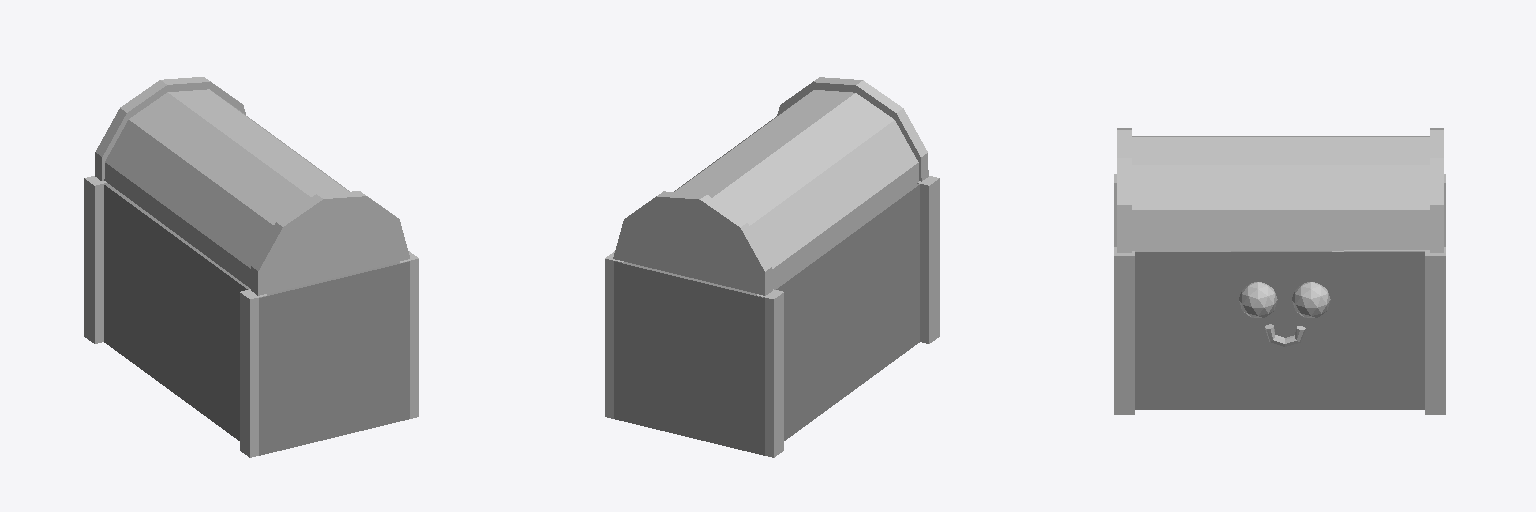
File: mimic.obj
3 views of the same model, side by side, from view 1: azimuth 30°, elevation 25°; view 2: azimuth 150°, elevation 25°; view 3: azimuth 270°, elevation 25° (orthographic).
Visible parts, largest first — view 1: Cube, Cylinder, Cylinder.003, Cube.003, Cube.004, Cylinder.002, Cube.001; view 2: Cube, Cylinder, Cylinder.002, Cube.004, Cube.003, Cylinder.003, Cube.002; view 3: Cube, Cylinder, Cube.002, Cube.001, Cylinder.003, Cylinder.002, Icosphere.001, Icosphere.
Boxes of the visible parts, box(x1,y1,x2,y2) form: Cube: box(104, 183, 409, 455); Cylinder: box(104, 89, 397, 293); Cylinder.003: box(251, 191, 409, 295); Cube.003: box(84, 176, 106, 343); Cube.004: box(240, 289, 267, 457); Cylinder.002: box(95, 77, 245, 180); Cube.001: box(400, 251, 418, 418); Cube: box(614, 184, 919, 455); Cylinder: box(674, 90, 918, 287); Cylinder.002: box(613, 191, 772, 295); Cube.004: box(917, 176, 939, 343); Cube.003: box(756, 289, 783, 457); Cylinder.003: box(777, 77, 928, 181); Cube.002: box(605, 251, 623, 418); Cube: box(1114, 183, 1445, 409); Cylinder: box(1132, 136, 1429, 251); Cube.002: box(1425, 247, 1445, 414); Cube.001: box(1114, 247, 1134, 414); Cylinder.003: box(1117, 128, 1131, 252); Cylinder.002: box(1430, 128, 1443, 252); Icosphere.001: box(1239, 282, 1277, 317); Icosphere: box(1292, 282, 1330, 317).
Bounding box in the file's own units: 2.36 × 3.03 × 3.82.